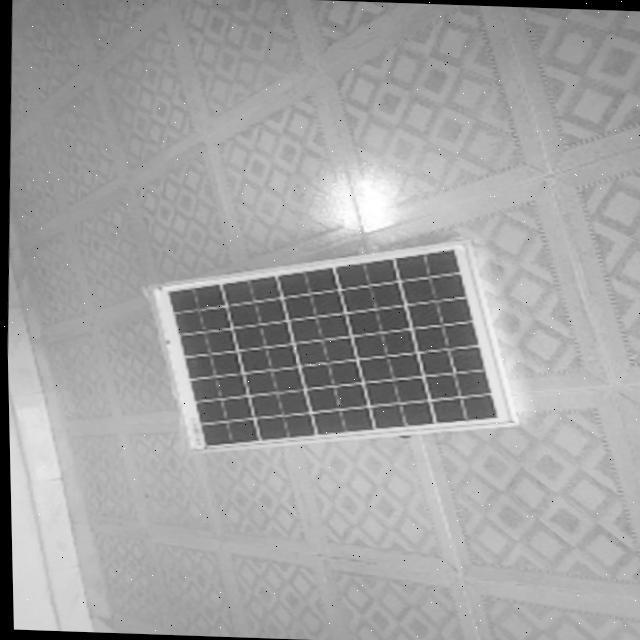Normal Solar Panel: (138, 231, 521, 463)
